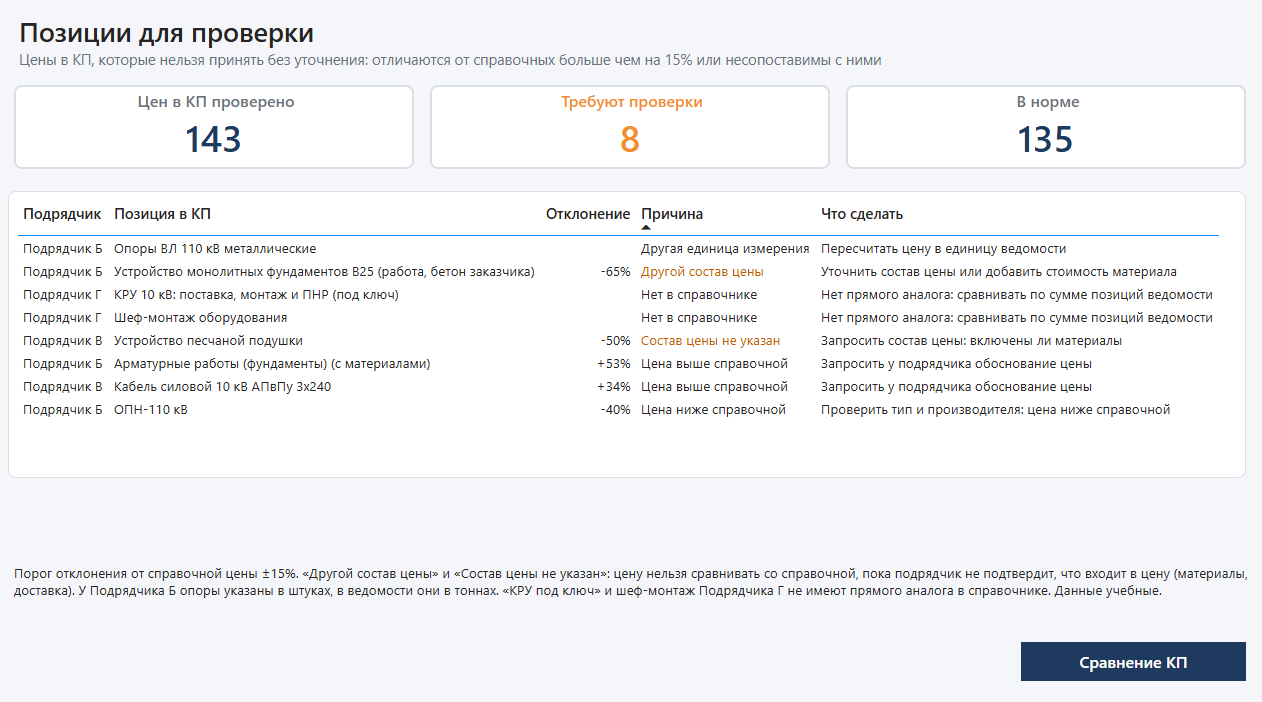

Layout of this report page (visuals, bound fields, positions):
{"tool":"powerbi","page":{"name":"Позиции для проверки","canvas":[1280,720],"ordinal":1},"visuals":[{"type":"textbox","box":[24,11,1256,68],"z":0},{"type":"card","title":"Цен в КП проверено","fields":{"Values":["Меры.Проверено_цен"]},"box":[24,88,399.7,83.8],"z":1000},{"type":"card","title":"Требуют проверки","fields":{"Values":["Меры.Требуют_проверки"]},"box":[440,88,399.7,83.8],"z":2000},{"type":"card","title":"В норме","fields":{"Values":["Меры.В_норме"]},"box":[856,88,399.7,83.8],"z":3000},{"type":"tableEx","fields":{"Values":["KP_Clean.Подрядчик","KP_Clean.Наименование","KP_Clean.Откл_для_показа","KP_Clean.Причина","KP_Clean.Что_сделать"]},"box":[18.2,193.8,1237.6,286.7],"z":4000},{"type":"textbox","box":[19.2,562.3,1260.8,59.6],"z":5000},{"type":"actionButton","box":[1030.7,645,225.1,39.4],"z":6000}]}

Visuals, with their boxes in screenshot pixels (x1, y1, x2, y2), scaled from the page's 1280x720 canvas onto the 1262x702 screenshot:
textbox: 24:11:1261:77
"Цен в КП проверено" card: 24:86:418:168
"Требуют проверки" card: 434:86:828:168
"В норме" card: 844:86:1238:168
tableEx - KP_Clean.Подрядчик x KP_Clean.Наименование: 18:189:1238:468
textbox: 19:548:1261:606
actionButton: 1016:629:1238:667
